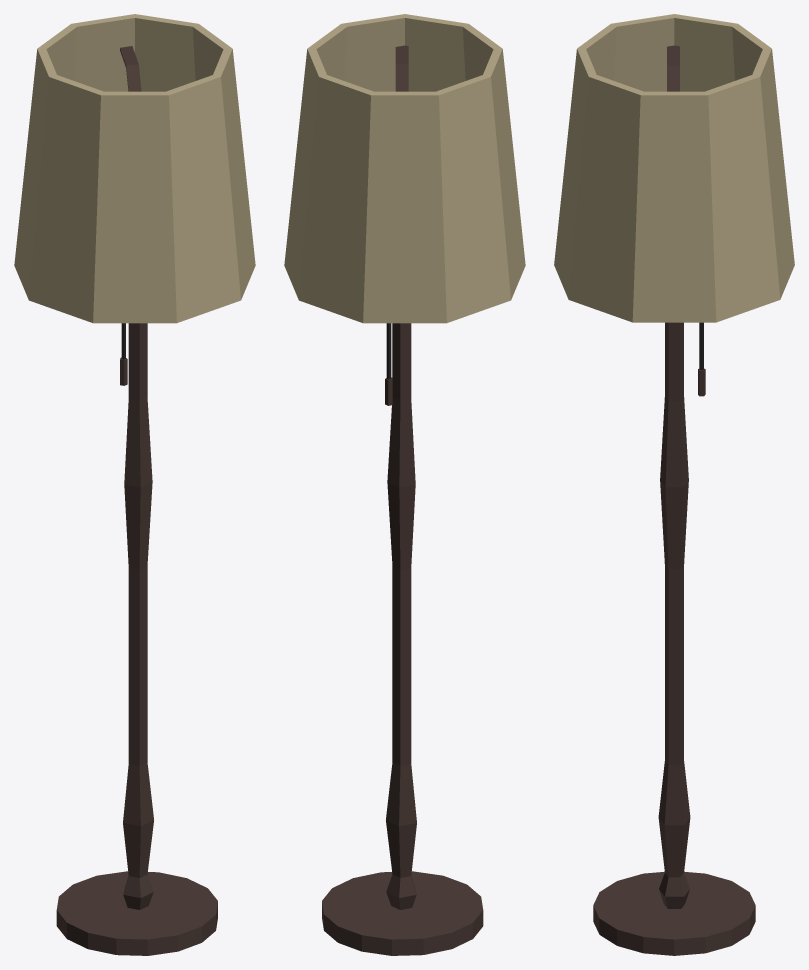
Rendered from TallLamp.fbx.
3 views of the same model, side by side, from view 1: azimuth 30°, elevation 25°; view 2: azimuth 150°, elevation 25°; view 3: azimuth 270°, elevation 25° (orthographic).
Visible parts, largest first — view 1: lampshade, Cylinder, Cylinder.001, Cube; view 2: lampshade, Cylinder, Cylinder.001, Cube.002; view 3: lampshade, Cylinder, Cylinder.001, Cube.001.
Boxes of the visible parts, x1,y1,x2,y2 form: lampshade: (14, 14, 255, 323); Cylinder: (123, 323, 153, 909); Cylinder.001: (56, 871, 217, 955); Cube: (120, 46, 141, 91); lampshade: (284, 14, 525, 323); Cylinder: (386, 323, 416, 909); Cylinder.001: (322, 871, 483, 955); Cube.002: (395, 45, 408, 91); lampshade: (554, 14, 794, 322); Cylinder: (658, 322, 690, 908); Cylinder.001: (593, 871, 755, 955); Cube.001: (667, 45, 679, 91).
Bounding box in the file's own units: 188 × 756 × 191.
